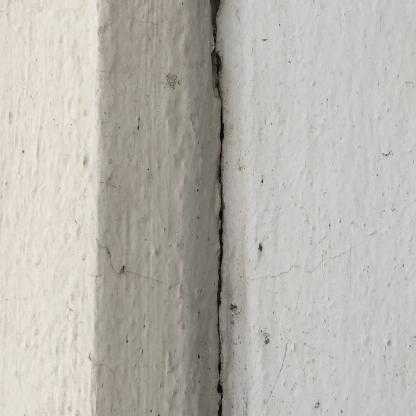crack: (211, 0, 224, 415)
